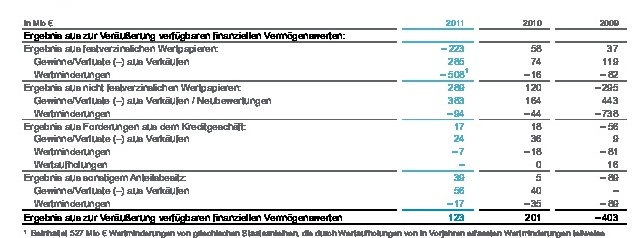table: (0, 0, 644, 238)
